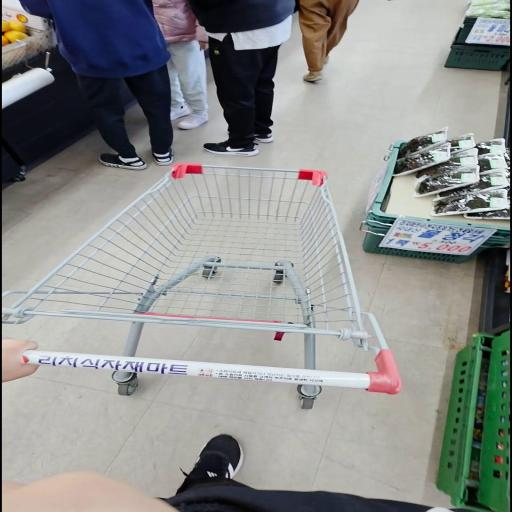empty_cart: (7, 163, 401, 412)
